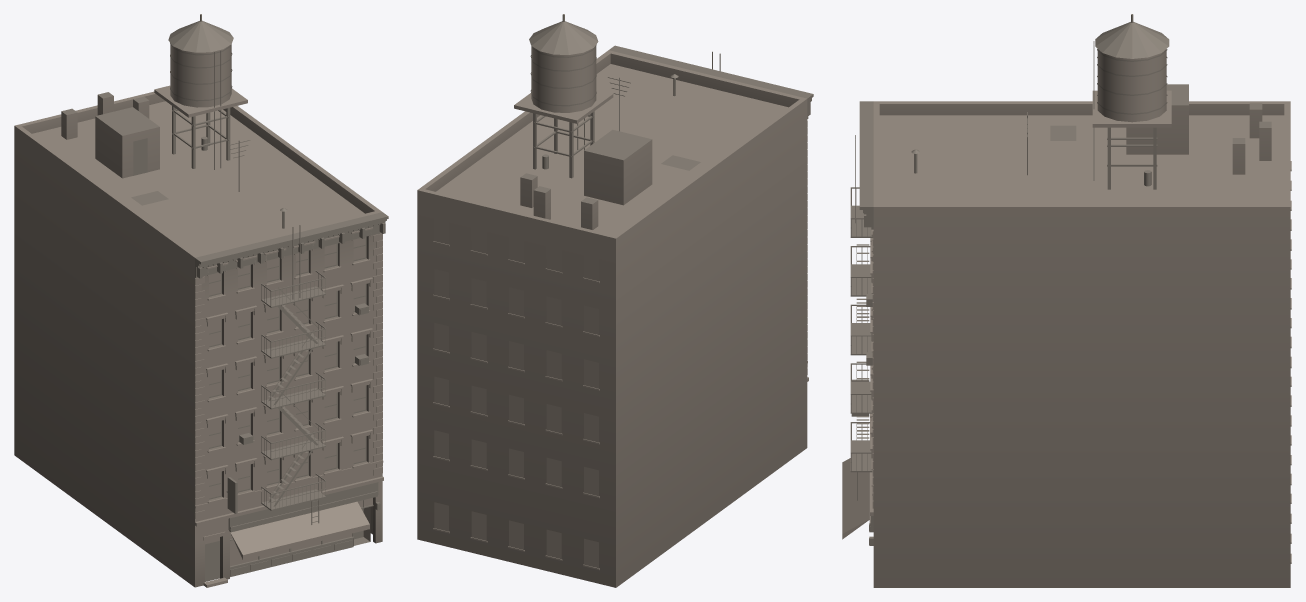
File: biz_restaurant_vesuvio.glb
3 views of the same model, side by side, from view 1: azimuth 30°, elevation 25°; view 2: azimuth 150°, elevation 25°; view 3: azimuth 270°, elevation 25° (orthographic). The views are drawn at different scales.
Visible parts, largest first — view 1: biz_restaurant_vesuvio; view 2: biz_restaurant_vesuvio; view 3: biz_restaurant_vesuvio.
Part boxes in pixels (left/top/right/bottom): biz_restaurant_vesuvio: left=14, top=14, right=388, bottom=587; biz_restaurant_vesuvio: left=417, top=14, right=813, bottom=587; biz_restaurant_vesuvio: left=842, top=14, right=1291, bottom=587.
Size of the model in its own units: 12 by 28.25 by 21.55.
